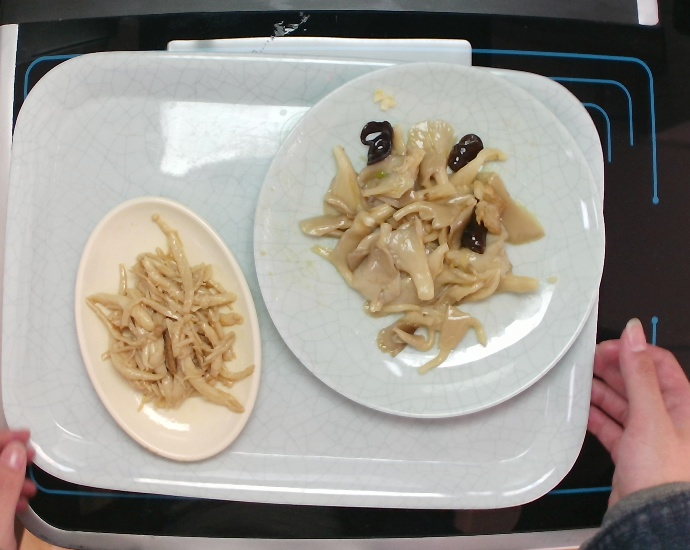JYsf-Da_Yuan_Pan: (247, 55, 613, 424)
JYsf-Tuo_Yuan_Wan: (69, 192, 267, 468)
